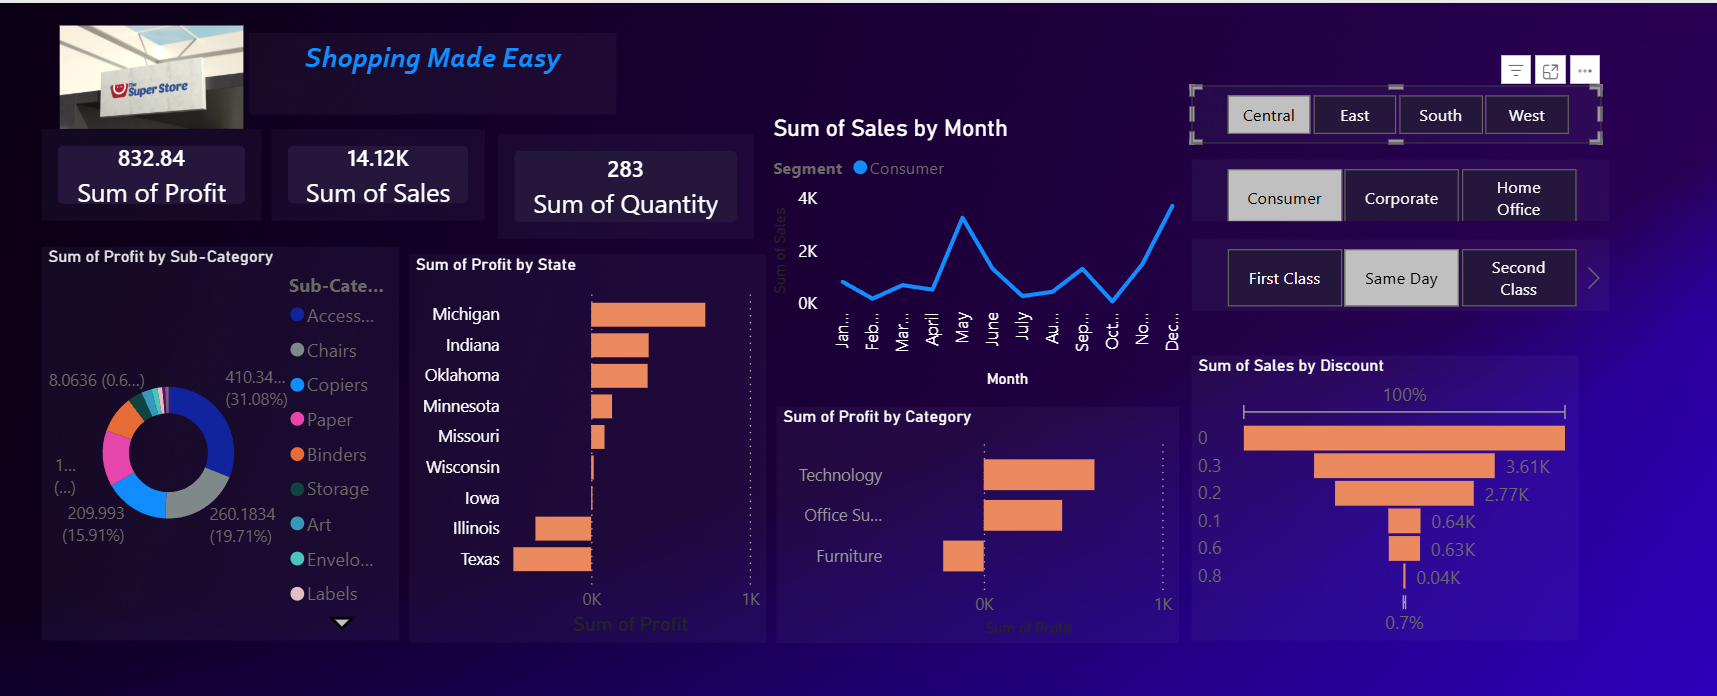

What the dashboard file says about the page in this screenshot:
{"tool":"powerbi","page":{"name":"Page 1","canvas":[1280,720],"ordinal":0},"visuals":[{"type":"donutChart","fields":{"Y":["Sum(SampleSuperstore.Profit)"],"Category":["SampleSuperstore.Sub-Category"]},"box":[56.4,177.3,260,286.4],"z":0},{"type":"clusteredBarChart","fields":{"Category":["SampleSuperstore.Category"],"Y":["Sum(SampleSuperstore.Profit)"]},"box":[590.9,293.6,292.7,171.8],"z":1000},{"type":"barChart","fields":{"Category":["SampleSuperstore.State"],"Y":["Sum(SampleSuperstore.Profit)"]},"box":[323.6,182.7,260,282.7],"z":3000},{"type":"cardVisual","fields":{"Data":["Sum(SampleSuperstore.Sales)"]},"box":[223.6,95.5,155.5,61.8],"z":4000},{"type":"cardVisual","fields":{"Data":["Sum(SampleSuperstore.Quantity)"]},"box":[388.2,91.8,185.5,65.5],"z":5000},{"type":"cardVisual","fields":{"Data":["Sum(SampleSuperstore.Profit)"]},"box":[56.4,95.5,160,62.7],"z":6000},{"type":"slicer","fields":{"Values":["SampleSuperstore.Region"]},"box":[892.7,60,298.2,41.8],"z":7000},{"type":"slicer","fields":{"Values":["SampleSuperstore.Segment"]},"box":[892.7,113.6,303.6,40.9],"z":8000},{"type":"slicer","fields":{"Values":["SampleSuperstore.Ship Mode"]},"box":[892.7,171.8,303.6,51.8],"z":9000},{"type":"funnel","fields":{"Category":["SampleSuperstore.Discount"],"Y":["Sum(SampleSuperstore.Sales)"]},"box":[892.7,256.4,281.8,207.3],"z":10000},{"type":"image","box":[0,16.2,273.1,75.4],"z":11000},{"type":"textbox","box":[207.3,21.8,267.3,59.1],"z":12000},{"type":"lineChart","title":"Sum of Sales by Month","fields":{"Y":["Sum(SampleSuperstore.Sales)"],"Category":["SampleSuperstore.Column 2.Variation.Date Hierarchy.Month"],"Series":["SampleSuperstore.Segment"]},"box":[583.6,80.9,309.1,203.6],"z":13000}]}

Visuals, with their boxes on the page's 1280x720 design canvas (x1, y1, x2, y2). These are canvas units, not pixel positions in the 1717x696 screenshot, which may show the page scaled, cropped or inside an application window:
donutChart - Sum(SampleSuperstore.Profit) x SampleSuperstore.Sub-Category: [x1=56, y1=177, x2=316, y2=464]
clusteredBarChart - SampleSuperstore.Category x Sum(SampleSuperstore.Profit): [x1=591, y1=294, x2=884, y2=465]
barChart - SampleSuperstore.State x Sum(SampleSuperstore.Profit): [x1=324, y1=183, x2=584, y2=465]
cardVisual - Sum(SampleSuperstore.Sales): [x1=224, y1=96, x2=379, y2=157]
cardVisual - Sum(SampleSuperstore.Quantity): [x1=388, y1=92, x2=574, y2=157]
cardVisual - Sum(SampleSuperstore.Profit): [x1=56, y1=96, x2=216, y2=158]
slicer - SampleSuperstore.Region: [x1=893, y1=60, x2=1191, y2=102]
slicer - SampleSuperstore.Segment: [x1=893, y1=114, x2=1196, y2=154]
slicer - SampleSuperstore.Ship Mode: [x1=893, y1=172, x2=1196, y2=224]
funnel - SampleSuperstore.Discount x Sum(SampleSuperstore.Sales): [x1=893, y1=256, x2=1174, y2=464]
image: [x1=0, y1=16, x2=273, y2=92]
textbox: [x1=207, y1=22, x2=475, y2=81]
"Sum of Sales by Month" lineChart: [x1=584, y1=81, x2=893, y2=284]
